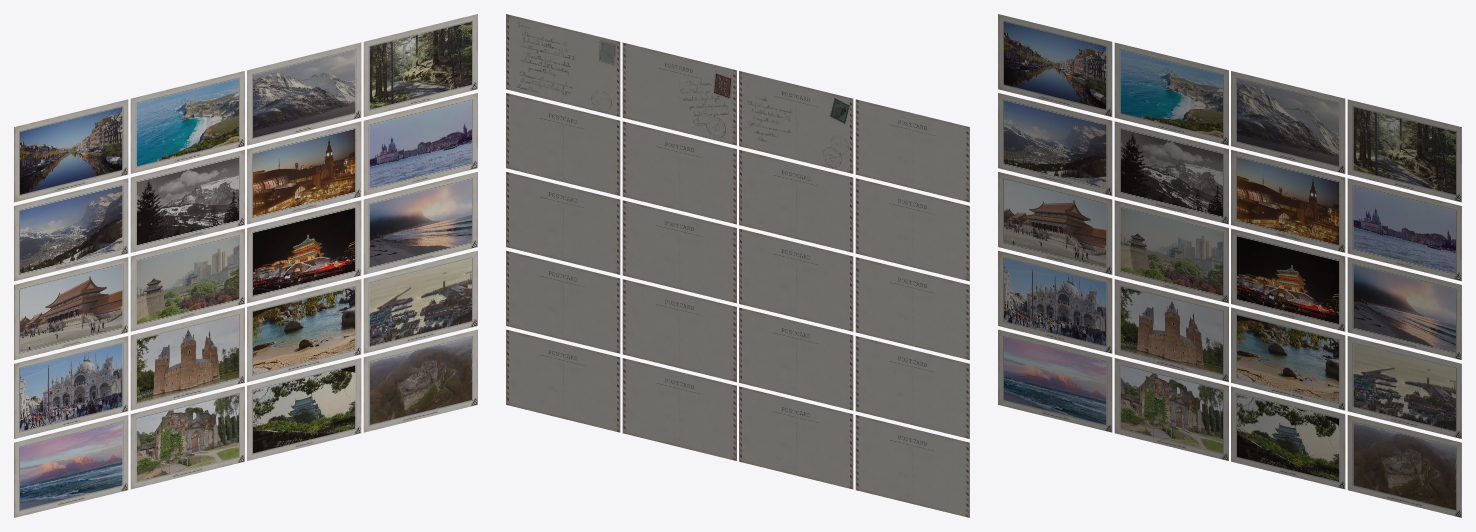
File: postcard-set-01.glb
3 views of the same model, side by side, from view 1: azimuth 30°, elevation 25°; view 2: azimuth 150°, elevation 25°; view 3: azimuth 330°, elevation 25° (orthographic).
Parts seen in each view (by area): view 1: postcard_01; view 2: postcard_01; view 3: postcard_01.
Part boxes in pixels (x1,y1,x2,y2): postcard_01: [14, 14, 477, 517]; postcard_01: [506, 14, 969, 517]; postcard_01: [998, 14, 1461, 517].
Size of the model in its own units: 0.6767 by 0.545 by 0.000165.
1 material, 1 textured.
